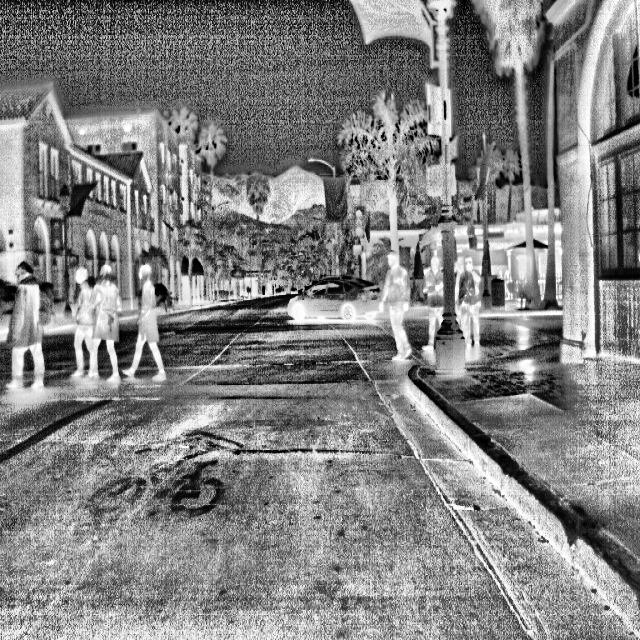car: (290, 272, 386, 338)
light: (303, 148, 348, 201)
person and bycle: (4, 250, 58, 400), (375, 247, 428, 374), (64, 264, 118, 388), (124, 260, 177, 378), (88, 252, 130, 389), (448, 251, 498, 354), (422, 250, 456, 359)
